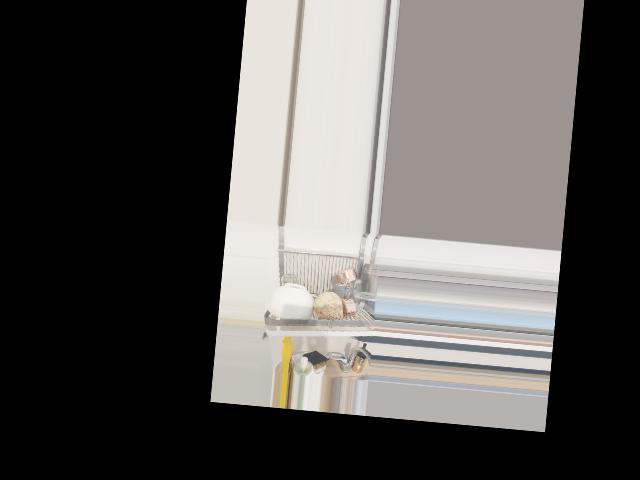onion: (312, 288, 343, 324)
